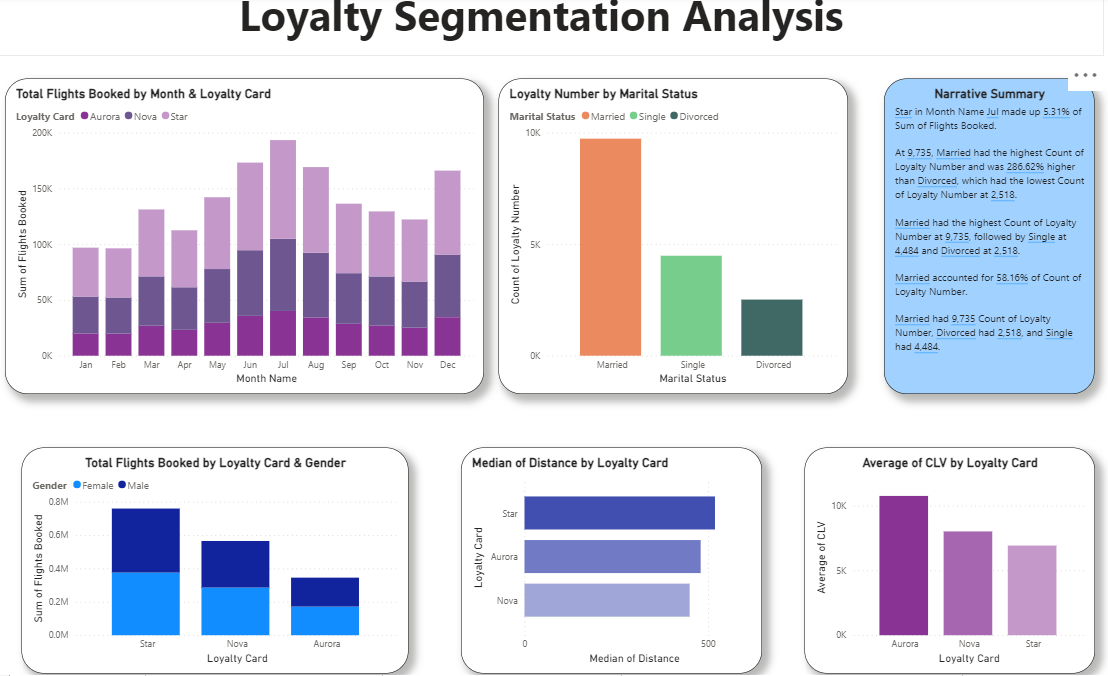

This screenshot's page, from the dashboard's own definition file:
{"tool":"powerbi","page":{"name":"Loyalty Segmentation","canvas":[1500,950],"ordinal":2},"visuals":[{"type":"columnChart","title":"Total Flights Booked by Month & Loyalty Card","fields":{"Category":["Customer Flight Activity.Month Name"],"Y":["Sum(Customer Flight Activity.Flights Booked)"],"Series":["Customer Loyalty History.Loyalty Card"]},"box":[21,130.6,638.7,421],"z":0},{"type":"columnChart","title":"Loyalty Number by Marital Status ","fields":{"Y":["CountNonNull(Customer Loyalty History.Loyalty Number)"],"Category":["Customer Loyalty History.Marital Status"],"Series":["Customer Loyalty History.Marital Status"]},"box":[677.4,130.6,466.1,421],"z":1000},{"type":"columnChart","title":"Total Flights Booked by Loyalty Card & Gender","fields":{"Category":["Customer Loyalty History.Loyalty Card"],"Y":["Sum(Customer Flight Activity.Flights Booked)"],"Series":["Customer Loyalty History.Gender"]},"box":[41.9,622.6,516.1,301.6],"z":2000},{"type":"barChart","fields":{"Category":["Customer Loyalty History.Loyalty Card"],"Y":["Median(Customer Flight Activity.Distance)"]},"box":[627.4,622.6,401.6,301.6],"z":3000},{"type":"textbox","title":"Narrative Summary","box":[1191.9,130.6,280.6,421],"z":4000},{"type":"columnChart","fields":{"Category":["Customer Loyalty Cancellation.Loyalty Card"],"Y":["Avg(Customer Loyalty History.CLV)"]},"box":[1085.5,622.6,387.1,301.6],"z":5000},{"type":"textbox","box":[0,0,1485.5,100],"z":6000}]}

Visuals, with their boxes on the page's 1500x950 design canvas (x1, y1, x2, y2). These are canvas units, not pixel positions in the 1108x676 screenshot, which may show the page scaled, cropped or inside an application window:
"Total Flights Booked by Month & Loyalty Card" columnChart: box=[21, 131, 660, 552]
"Loyalty Number by Marital Status " columnChart: box=[677, 131, 1144, 552]
"Total Flights Booked by Loyalty Card & Gender" columnChart: box=[42, 623, 558, 924]
barChart - Customer Loyalty History.Loyalty Card x Median(Customer Flight Activity.Distance): box=[627, 623, 1029, 924]
"Narrative Summary" textbox: box=[1192, 131, 1472, 552]
columnChart - Customer Loyalty Cancellation.Loyalty Card x Avg(Customer Loyalty History.CLV): box=[1086, 623, 1473, 924]
textbox: box=[0, 0, 1486, 100]
